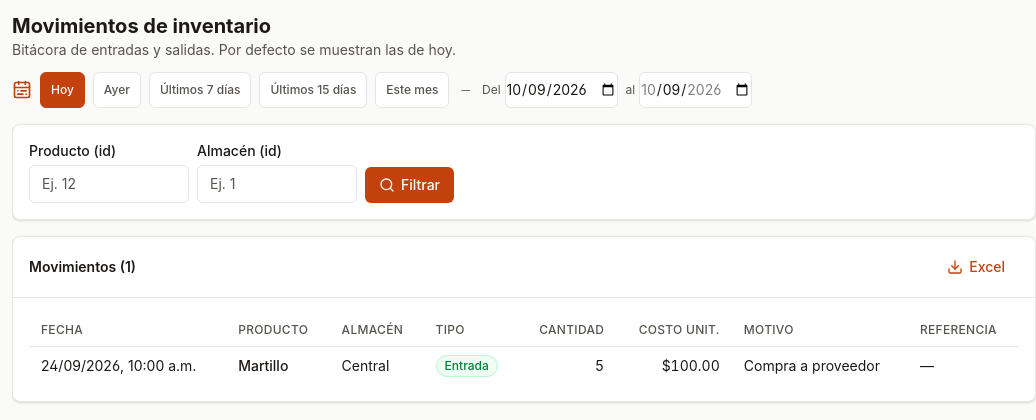
it: MovimientosPage (profundización) › filtra por almacén y quita los filtros
Expected: the text "Martillo" is shown, [238,357,288,374]
Type "1" into the field labelled "Producto (id)" at (109, 184), box [29,165,189,203]
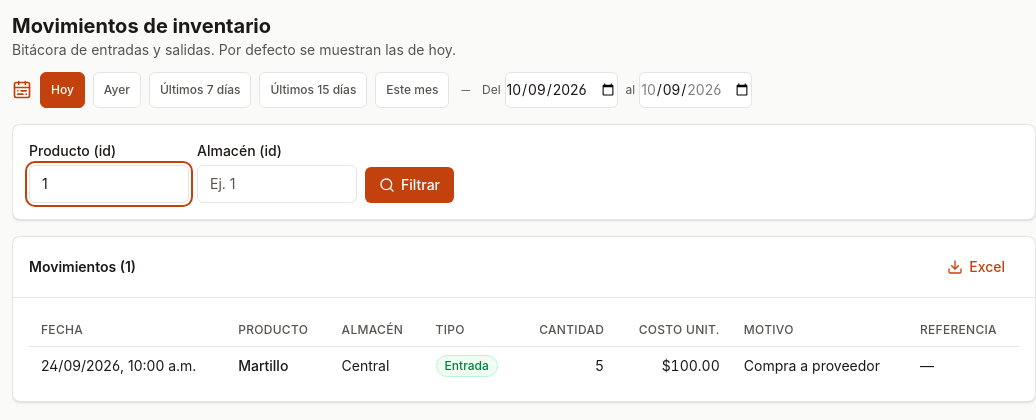
Type "2" into the field labelled "Almacén (id)" at (277, 184), box [197,165,357,203]
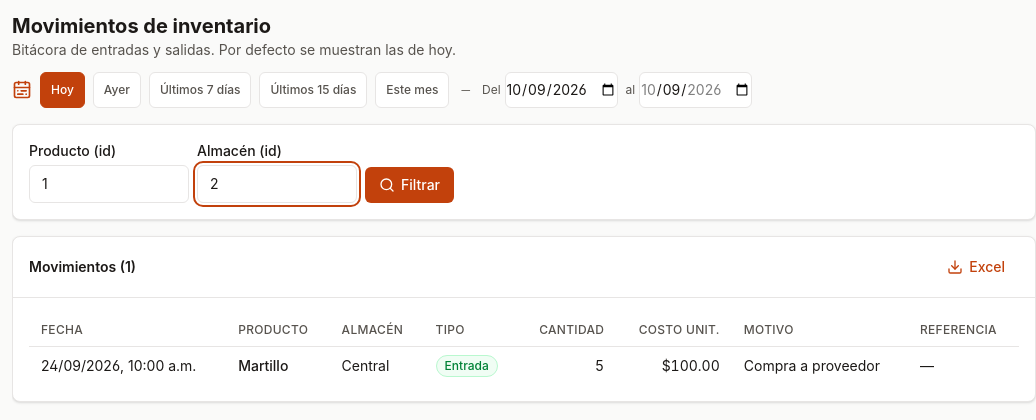
Click the button "Filtrar" at (410, 185), box [365,167,454,203]
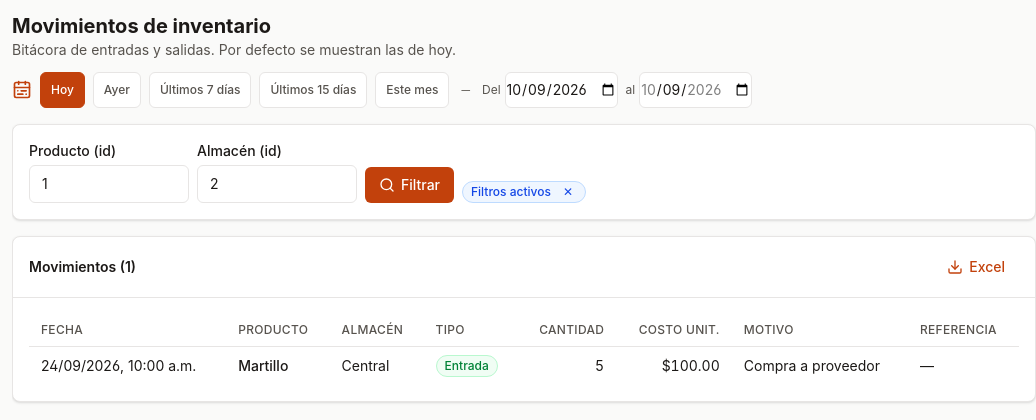
Now the text "Filtros activos" is shown, box [471,184,551,199]
Click the button named "Quitar filtros" at (568, 192), box [559,184,577,200]
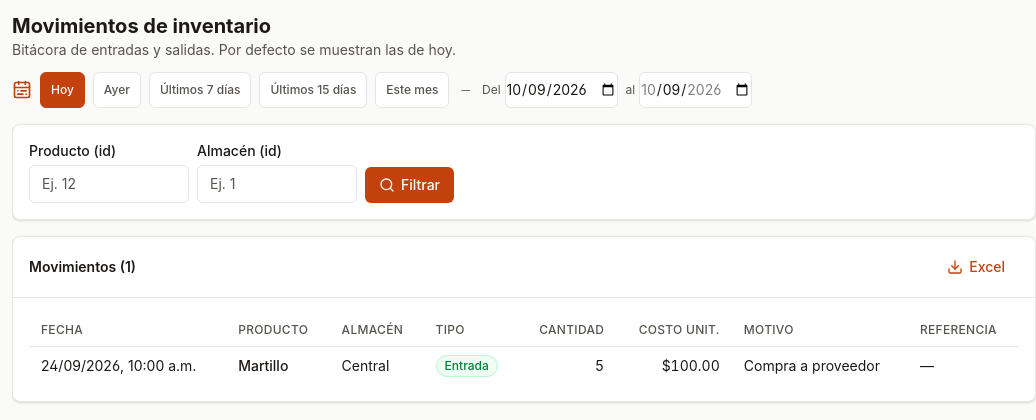
Now the text "Filtros activos" is gone
